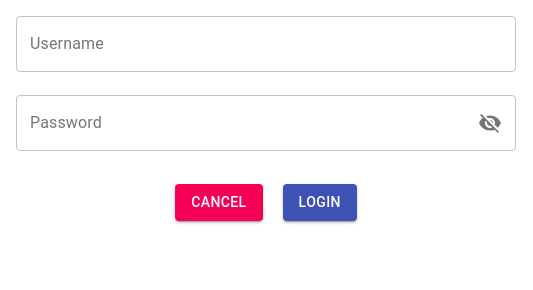
Login › should show message when empty input
The image size is (533, 290).
Click the button "Login". click: click(320, 202)
box: x1=283 y1=184 x2=357 y2=220
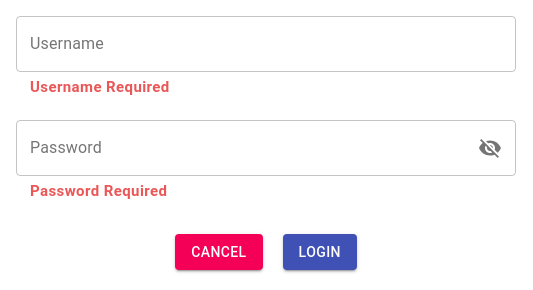
Now the text "Username Required" is shown, box x1=30 y1=78 x2=170 y2=96
Now the text "Password Required" is shown, box x1=30 y1=182 x2=167 y2=200
